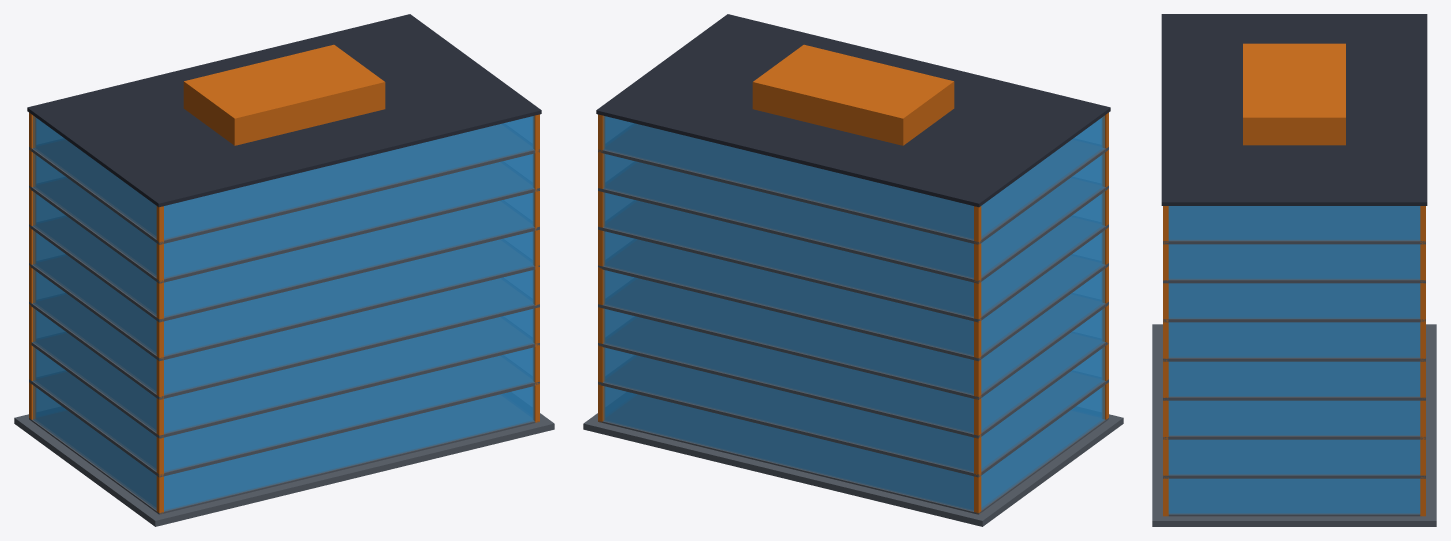
The model's file is bp_proj1_1788450575701_Commercial_Sky_Tower_Plan_pdf.obj.
The picture shows the model from 3 angles, left to right: view 1: azimuth 30°, elevation 25°; view 2: azimuth 150°, elevation 25°; view 3: azimuth 270°, elevation 25°; orthographic projection.
Parts seen in each view (by area): view 1: Roof_Slab, Floor_Slab_4, Floor_Slab_6, Floor_Slab_2, Floor_Slab_7, Floor_Slab_5, Floor_Slab_3, Floor_Slab_8, Floor_Slab_1, Glass_Facade_5_S, Glass_Facade_1_S, Glass_Facade_2_S (+15 smaller); view 2: Roof_Slab, Floor_Slab_4, Floor_Slab_2, Floor_Slab_6, Floor_Slab_7, Floor_Slab_3, Floor_Slab_5, Floor_Slab_8, Floor_Slab_1, Glass_Facade_5_N, Glass_Facade_1_N, Glass_Facade_2_N (+15 smaller); view 3: Roof_Slab, Rooftop_HVAC, Floor_Slab_5, Floor_Slab_7, Floor_Slab_6, Floor_Slab_2, Floor_Slab_8, Floor_Slab_4, Floor_Slab_3, Floor_Slab_1, Glass_Facade_1_E, Glass_Facade_2_E (+7 smaller).
Boxes of the visible parts, x1,y1,x2,y2 form: Roof_Slab: (27, 14, 541, 207); Floor_Slab_4: (29, 278, 539, 399); Floor_Slab_6: (29, 201, 539, 322); Floor_Slab_2: (29, 356, 539, 477); Floor_Slab_7: (29, 162, 539, 283); Floor_Slab_5: (29, 240, 539, 361); Floor_Slab_3: (31, 317, 539, 438); Floor_Slab_8: (29, 124, 539, 244); Floor_Slab_1: (29, 395, 539, 514); Glass_Facade_5_S: (164, 231, 534, 356); Glass_Facade_1_S: (164, 386, 534, 511); Glass_Facade_2_S: (164, 347, 534, 472); Roof_Slab: (596, 14, 1110, 207); Floor_Slab_4: (598, 278, 1108, 399); Floor_Slab_2: (598, 356, 1108, 477); Floor_Slab_6: (598, 201, 1108, 322); Floor_Slab_7: (598, 162, 1108, 283); Floor_Slab_3: (598, 317, 1108, 438); Floor_Slab_5: (598, 240, 1108, 361); Floor_Slab_8: (598, 124, 1108, 244); Floor_Slab_1: (598, 395, 1108, 514); Glass_Facade_5_N: (603, 231, 973, 356); Glass_Facade_1_N: (603, 386, 973, 511); Glass_Facade_2_N: (603, 347, 973, 472); Roof_Slab: (1161, 14, 1427, 205); Rooftop_HVAC: (1243, 43, 1345, 145); Floor_Slab_5: (1163, 322, 1425, 361); Floor_Slab_7: (1163, 244, 1425, 283); Floor_Slab_6: (1163, 283, 1425, 322); Floor_Slab_2: (1163, 440, 1425, 478); Floor_Slab_8: (1163, 206, 1425, 244); Floor_Slab_4: (1163, 362, 1425, 400); Floor_Slab_3: (1163, 401, 1425, 439); Floor_Slab_1: (1168, 479, 1420, 516); Glass_Facade_1_E: (1168, 478, 1420, 514); Glass_Facade_2_E: (1168, 439, 1420, 475).
Bounding box in the file's own units: 34.5 × 28.5 × 21.1.
